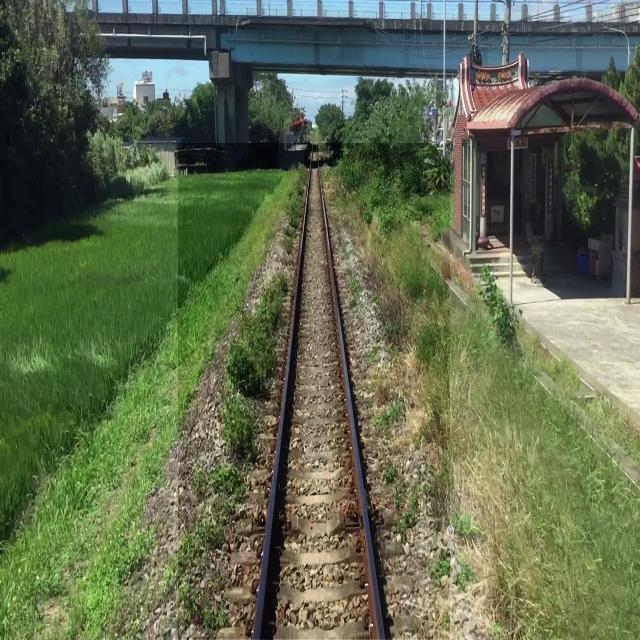rail: (179, 144, 451, 640)
